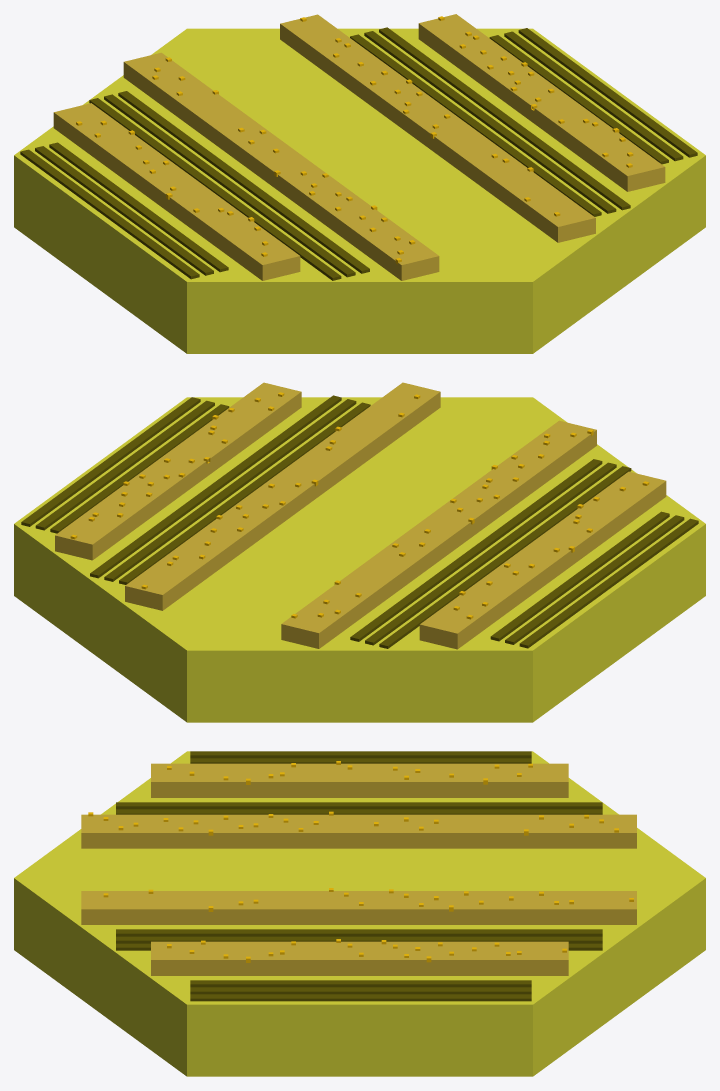
File: Tuile_Champ_N2.fbx
The picture shows the model from 3 angles, top to bottom: view 1: azimuth 30°, elevation 25°; view 2: azimuth 150°, elevation 25°; view 3: azimuth 270°, elevation 25°; orthographic projection.
Parts seen in each view (by area): view 1: Circle, nIV2; view 2: Circle, nIV2; view 3: Circle, nIV2.
Boxes of the visible parts, box(x1,y1,x2,y2) form: Circle: box(14, 28, 705, 353); nIV2: box(20, 14, 697, 280); Circle: box(14, 397, 705, 722); nIV2: box(21, 382, 698, 649); Circle: box(14, 751, 705, 1076); nIV2: box(81, 751, 636, 1001).
Bounding box in the file's own units: 107 × 17.76 × 124.
